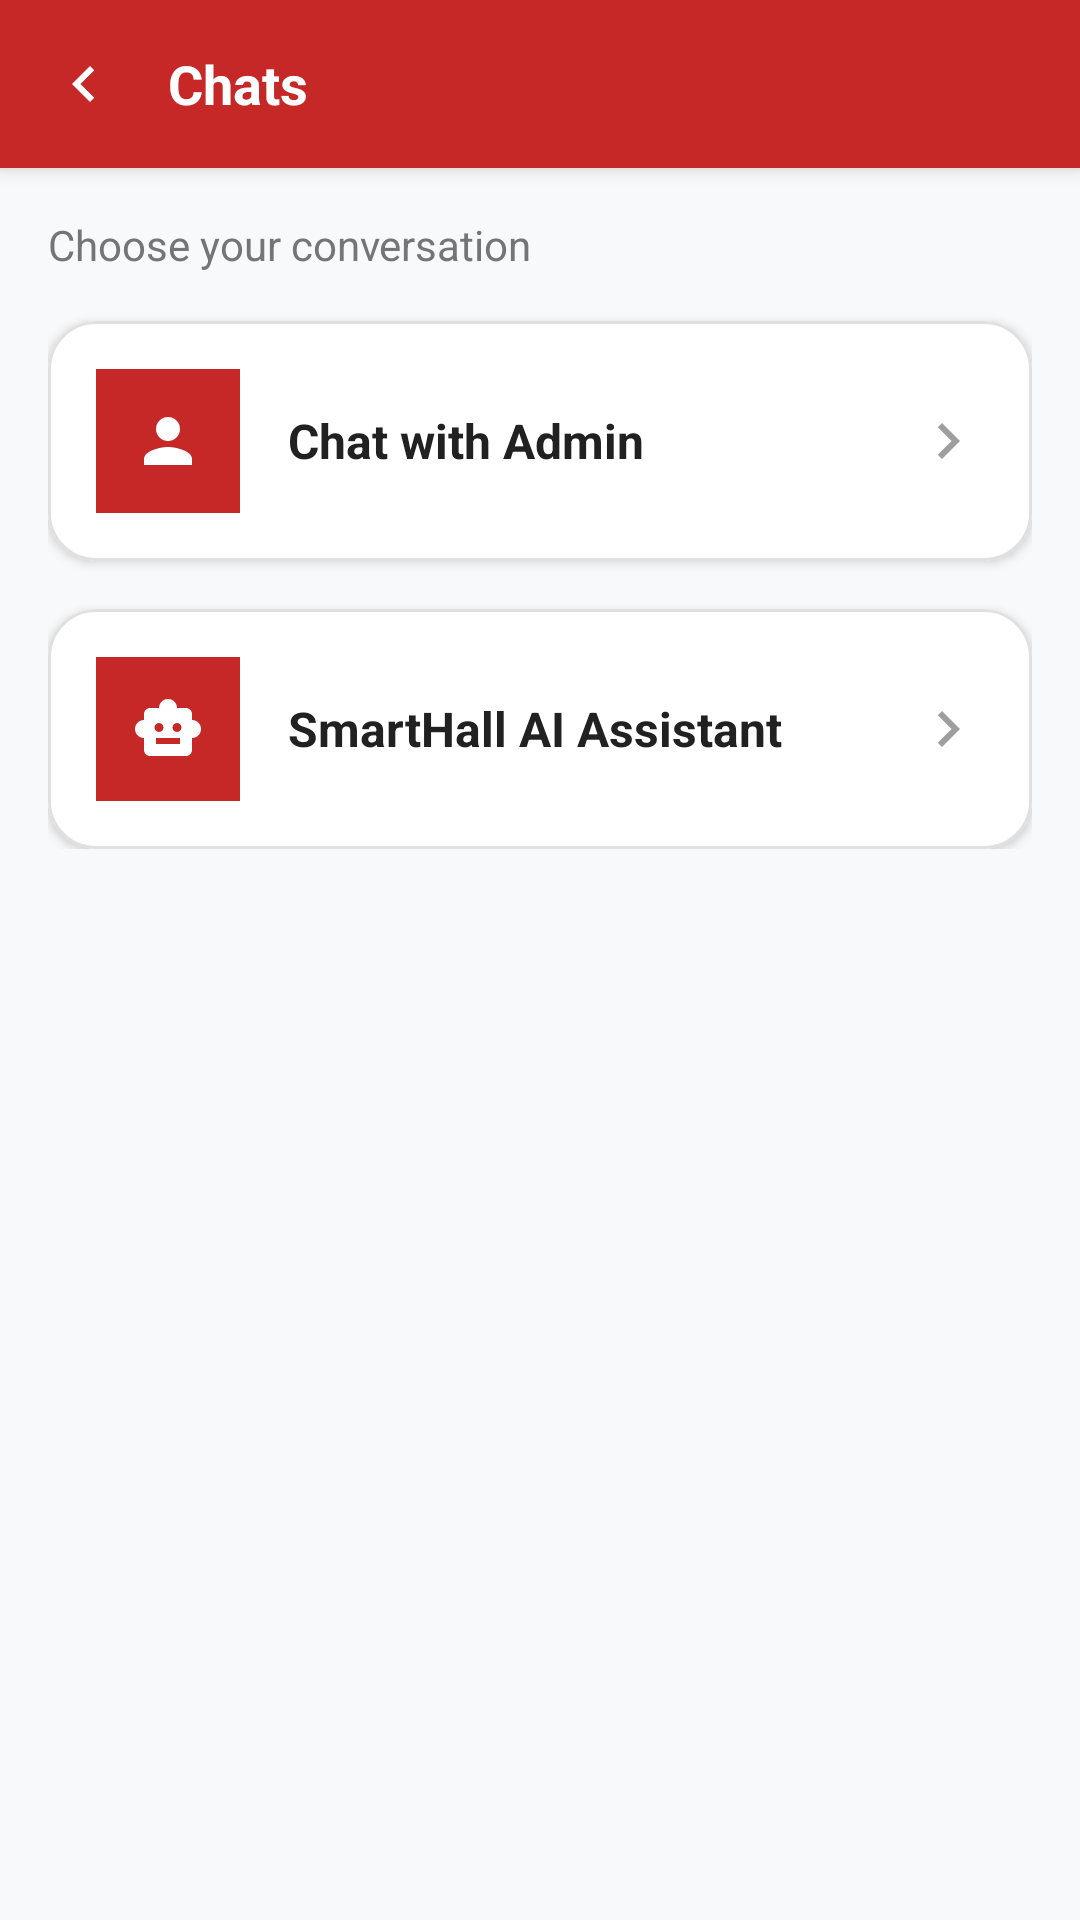

Locate icon controls on the screen. Image size 1080w x 1920h, boxes as (x1=x1, y1=y1, x2=x2, y2=y2).
Back: (x1=72, y1=66, x2=94, y2=102)
Go: (x1=938, y1=423, x2=960, y2=459), (x1=938, y1=711, x2=960, y2=747)
